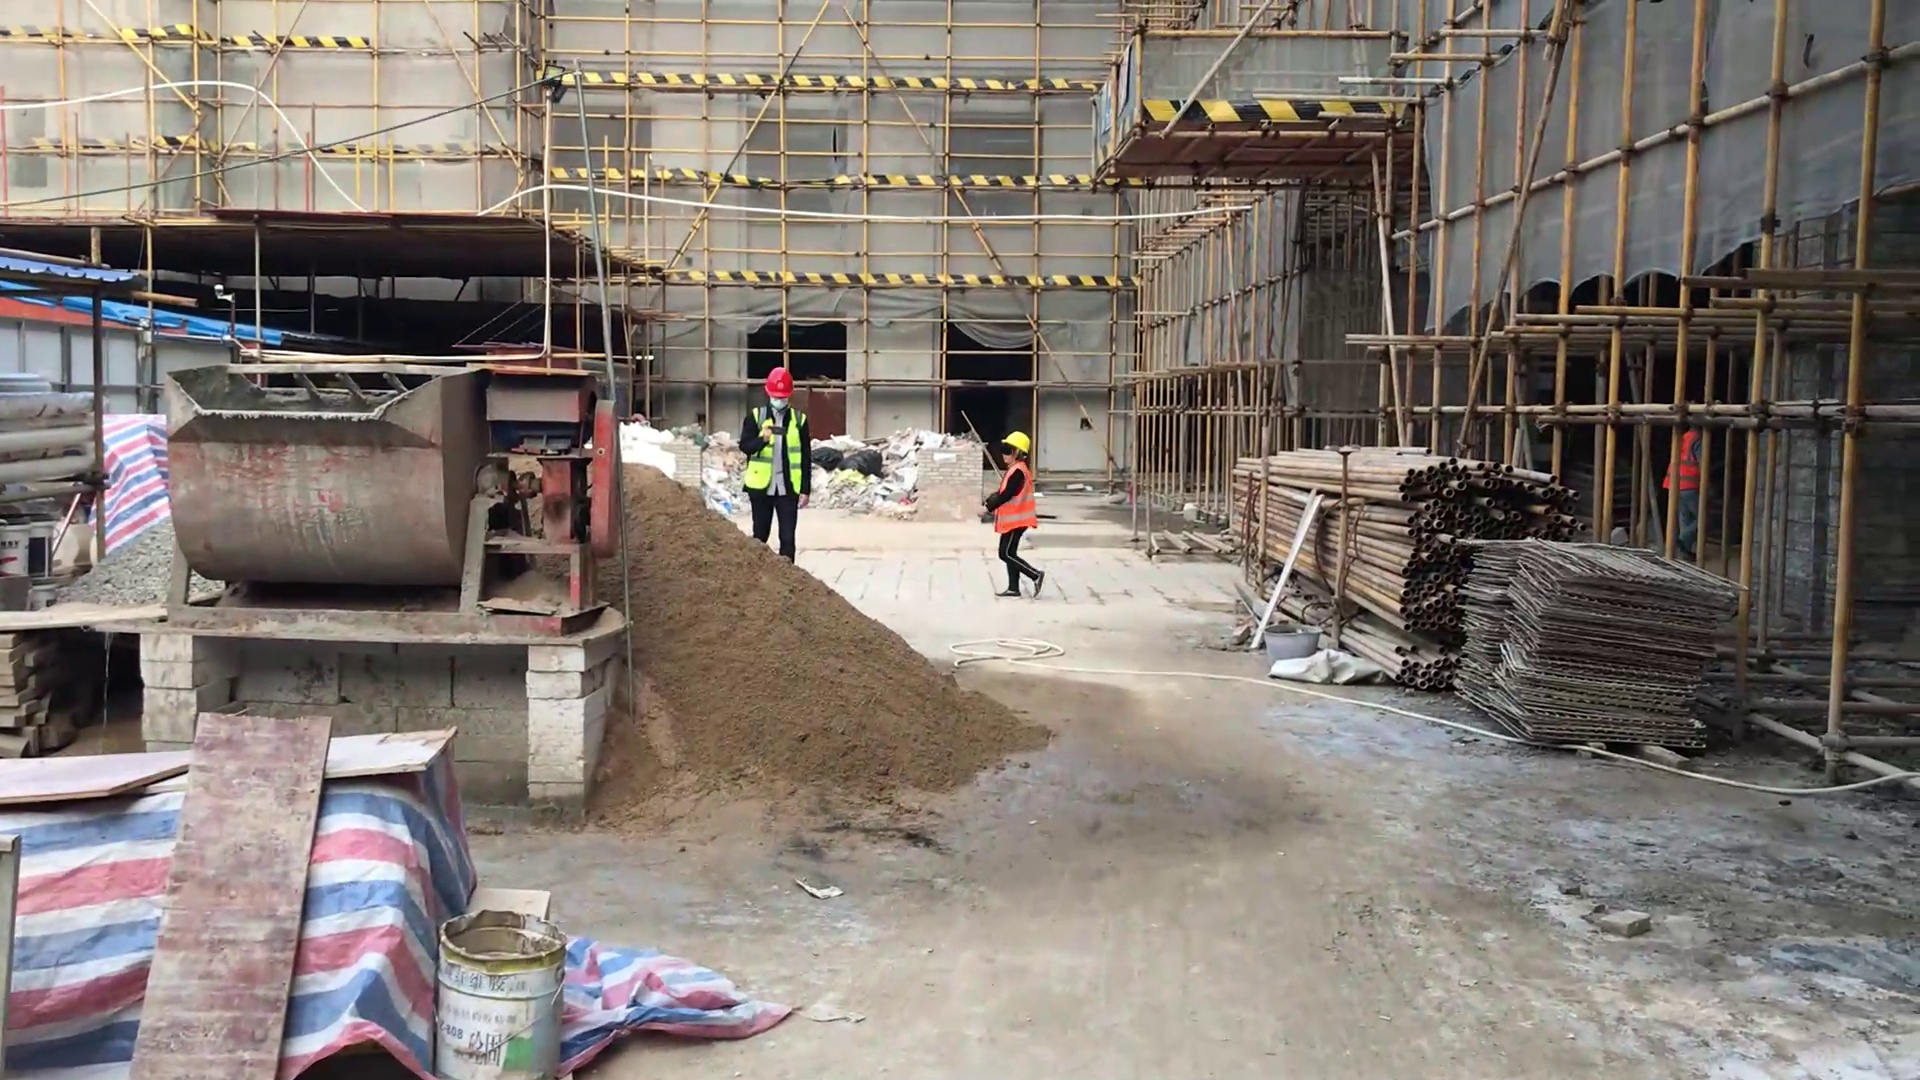helmet: (993, 415, 1034, 460), (760, 354, 797, 401)
person: (728, 358, 826, 569), (970, 420, 1056, 616)
vest: (744, 393, 814, 504), (984, 461, 1043, 539)
